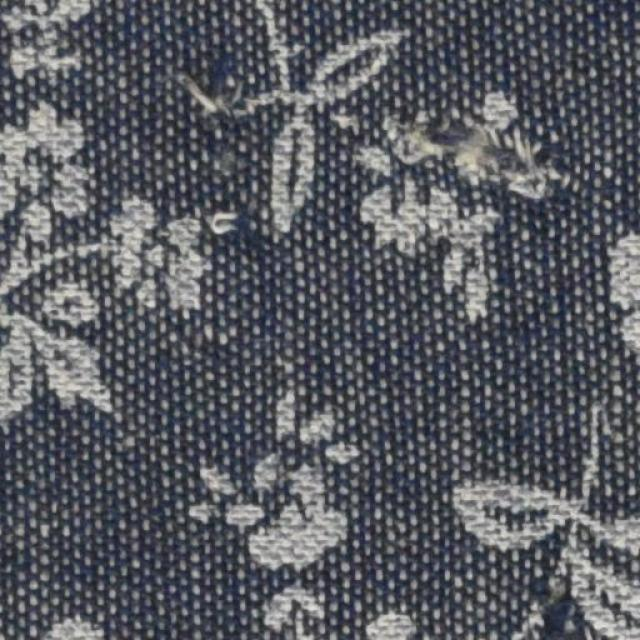Snag: (400, 98, 560, 201), (516, 583, 609, 639)
